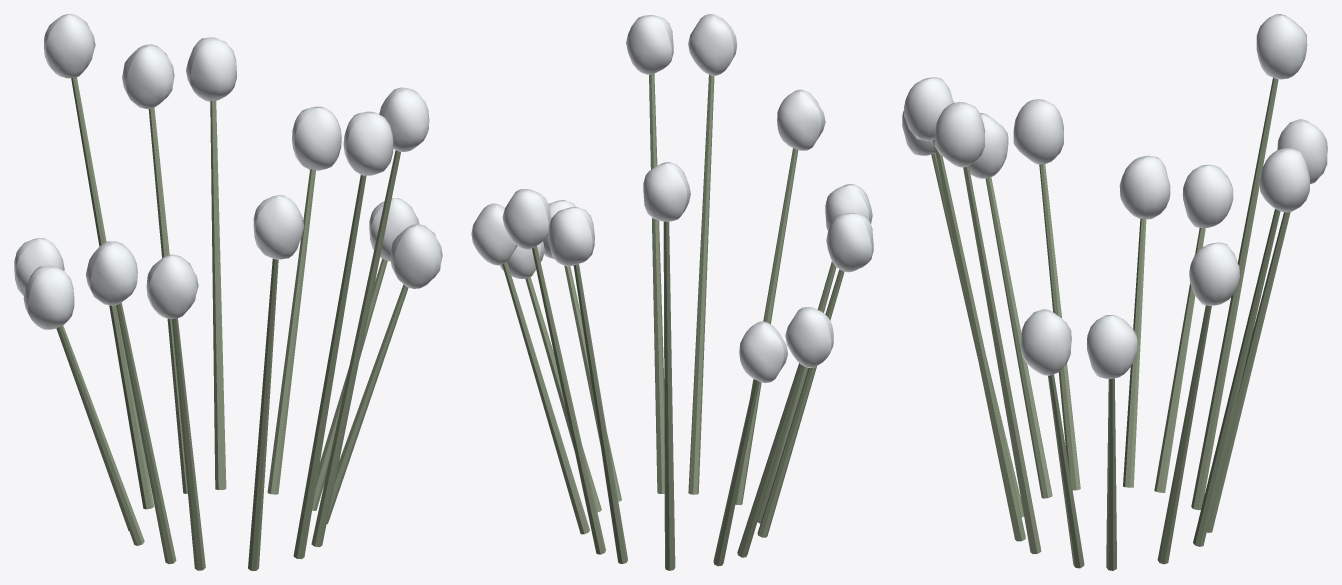
The model's file is alpine-and-arctic-biomes-cotton-grass-6cff86c1__20974.glb.
3 views of the same model, side by side, from view 1: azimuth 30°, elevation 25°; view 2: azimuth 150°, elevation 25°; view 3: azimuth 270°, elevation 25° (orthographic). The views are drawn at different scales.
Visible parts, largest first — view 1: cotton-grass; view 2: cotton-grass; view 3: cotton-grass.
Boxes of the visible parts, <box> form: cotton-grass: <box>14,14,442,570</box>; cotton-grass: <box>471,14,873,570</box>; cotton-grass: <box>902,14,1327,570</box>.
Size of the model in its own units: 0.4509 by 0.5484 by 0.4451.
